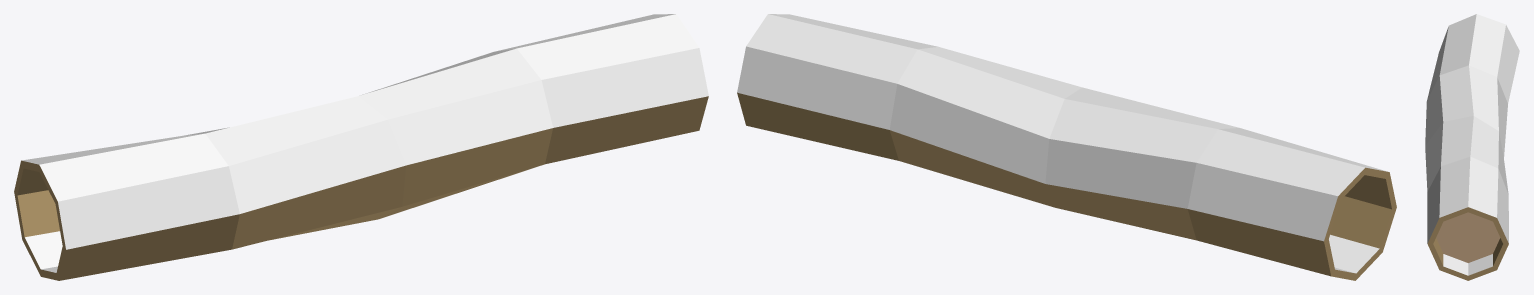
Rendered from Acacia_Log_Snow_05_LOD.fbx.
3 views of the same model, side by side, from view 1: azimuth 30°, elevation 25°; view 2: azimuth 150°, elevation 25°; view 3: azimuth 270°, elevation 25° (orthographic). The views are drawn at different scales.
Parts seen in each view (by area): view 1: Acacia_Log_Snow_05_LOD0; view 2: Acacia_Log_Snow_05_LOD0; view 3: Acacia_Log_Snow_05_LOD0.
Boxes of the visible parts, x1,y1,x2,y2 form: Acacia_Log_Snow_05_LOD0: (14, 14, 708, 280); Acacia_Log_Snow_05_LOD0: (737, 14, 1396, 280); Acacia_Log_Snow_05_LOD0: (1425, 14, 1519, 280).
Size of what is drawn, in the model's own units: 222 by 42.03 by 45.51.
